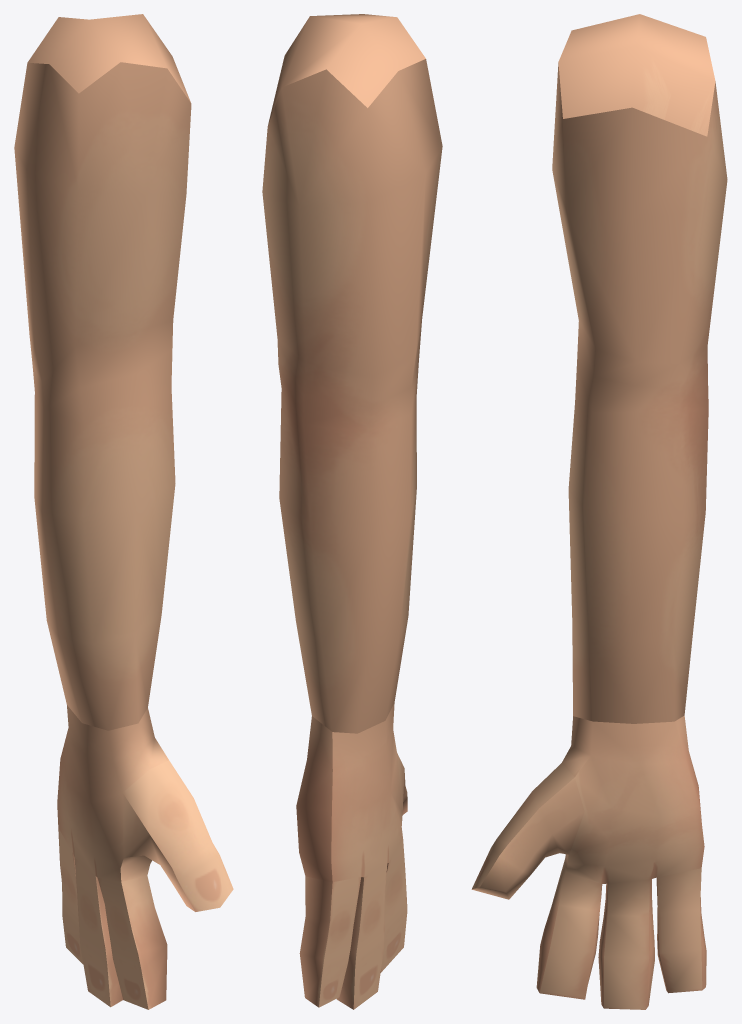
File: R_arm.fbx
3 views of the same model, side by side, from view 1: azimuth 30°, elevation 25°; view 2: azimuth 150°, elevation 25°; view 3: azimuth 270°, elevation 25° (orthographic).
Parts seen in each view (by area): view 1: R_arm; view 2: R_arm; view 3: R_arm.
Boxes of the visible parts, bbox=[...] form: R_arm: bbox=[14, 14, 233, 1009]; R_arm: bbox=[262, 14, 442, 1009]; R_arm: bbox=[471, 14, 727, 1009].
Size of the model in its own units: 4.5 by 29.37 by 6.88.
